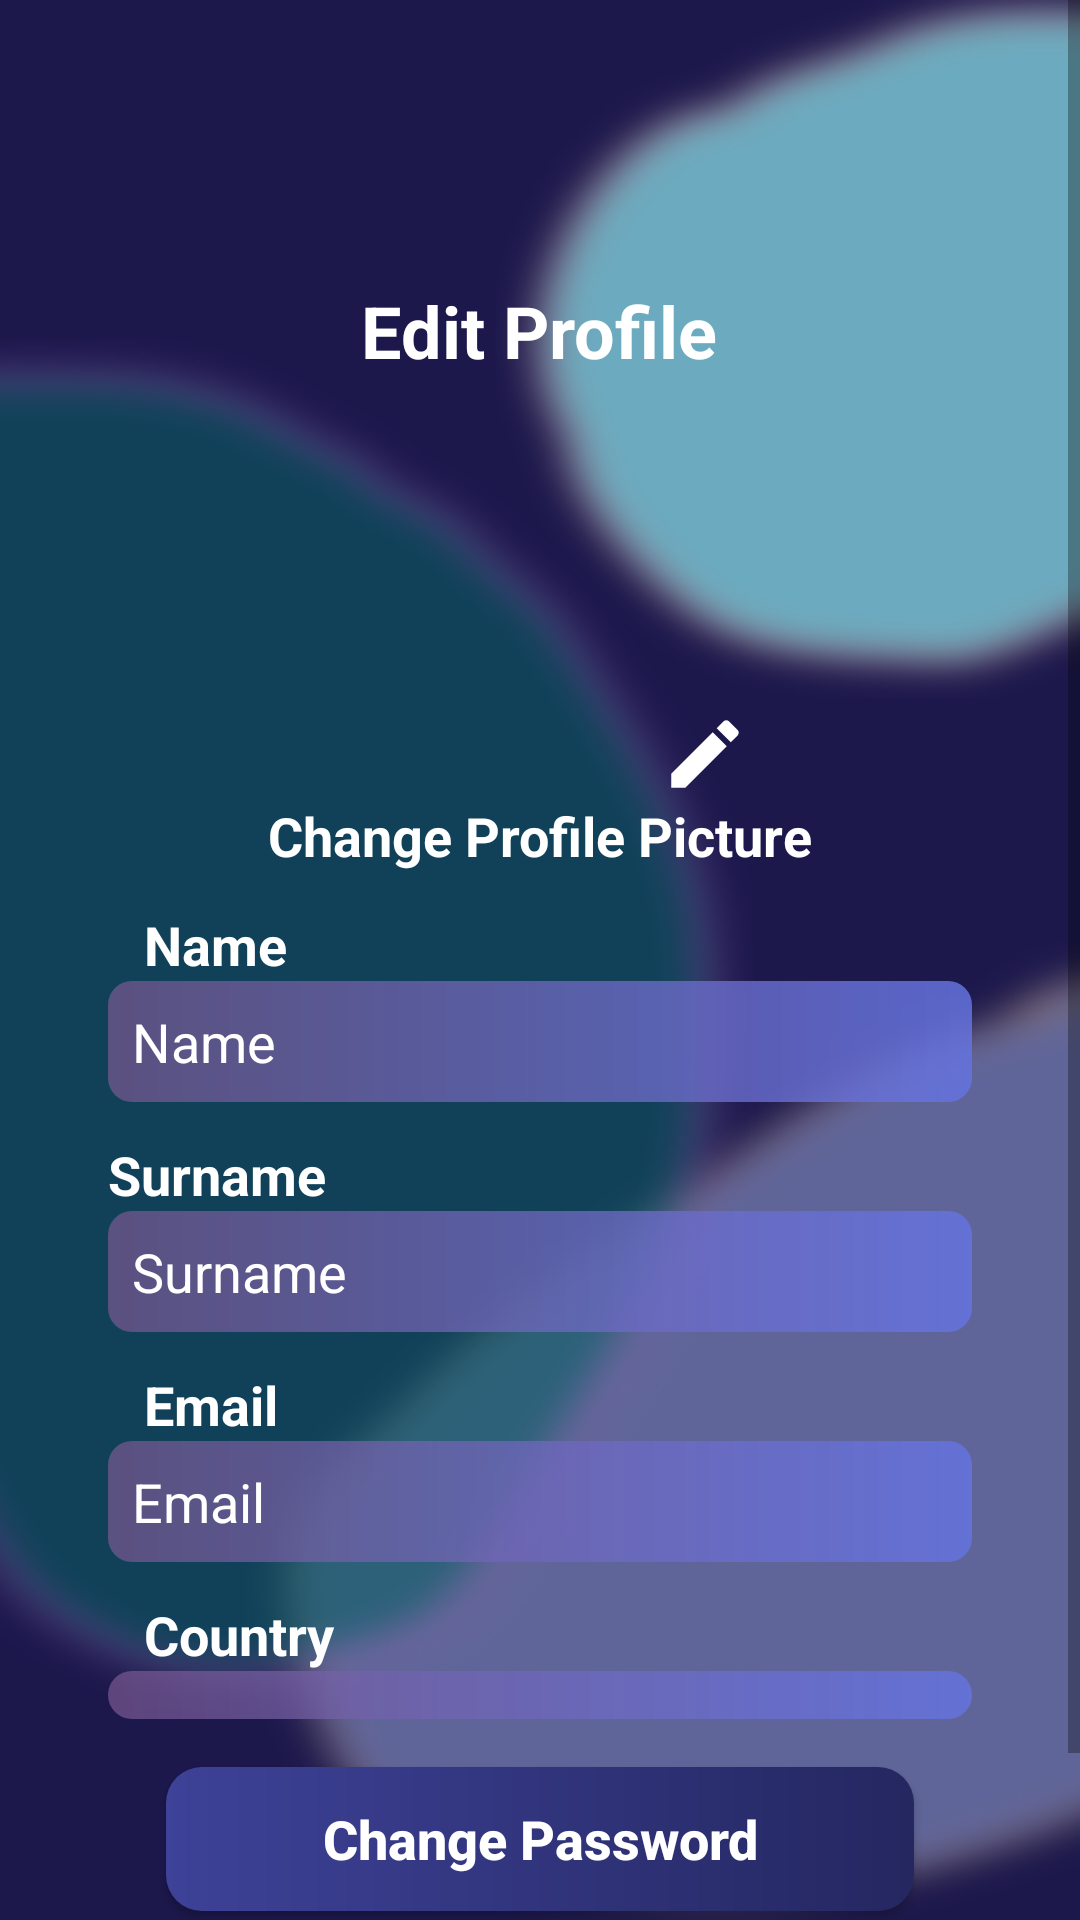

Icon bounding boxes for this 1080×1920 phone screenshot, format (x1, y1, x2, y2):
pencil: (671, 720, 739, 788)
